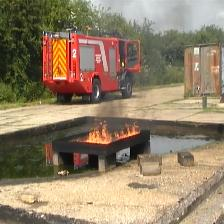fire: (78, 119, 140, 145)
